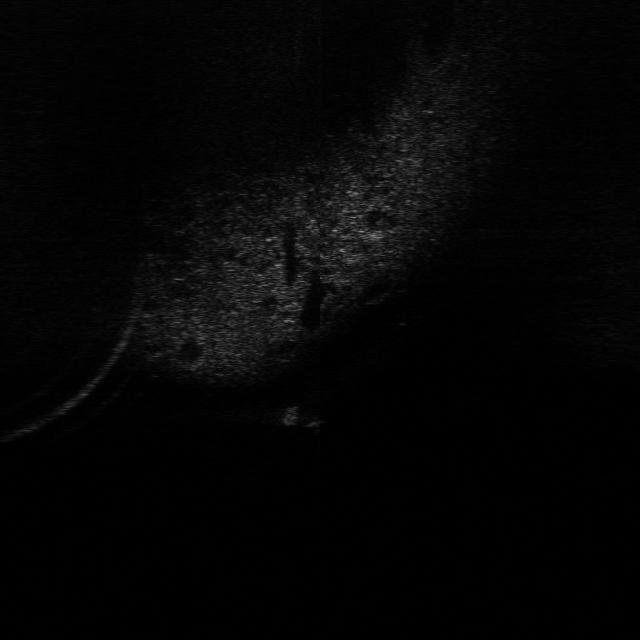cube: (297, 407, 331, 430)
cylinder: (276, 399, 304, 428)
